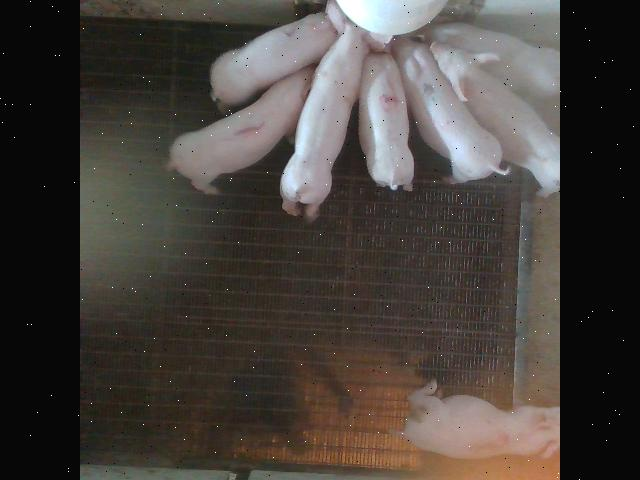pig-1: (169, 65, 314, 192)
pig-3: (396, 380, 558, 458)
pig-4: (359, 51, 414, 190)
